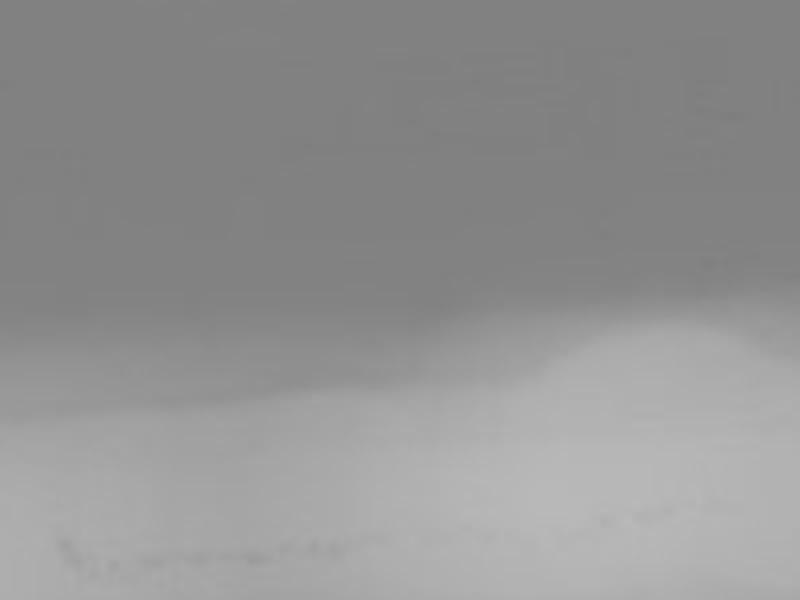defect: (224, 547, 278, 572), (64, 551, 102, 581), (130, 547, 173, 573), (329, 535, 357, 562), (178, 547, 209, 569), (54, 537, 78, 556), (598, 507, 615, 532), (300, 536, 316, 559), (107, 556, 121, 578)
